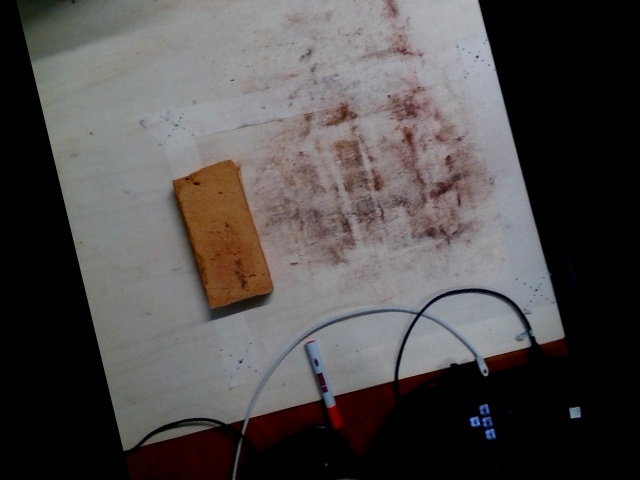brick: (171, 164, 273, 309)
